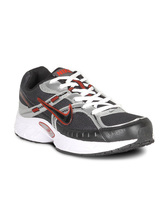shoes: (13, 64, 158, 158)
